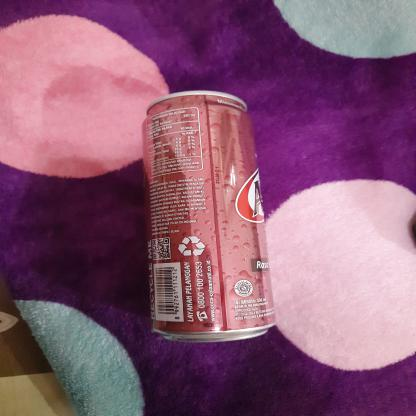bottle: (142, 90, 286, 348)
